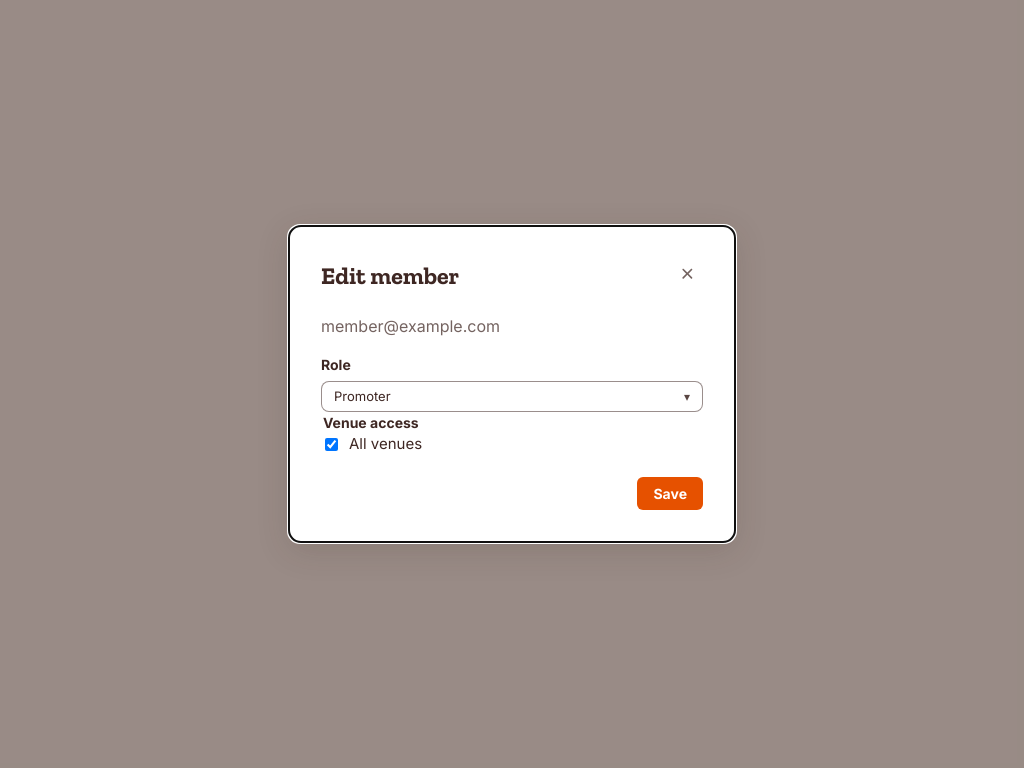
MemberEditModal › shows last-admin error
Click the button named "Role" at (362,396), box [321, 381, 703, 412]
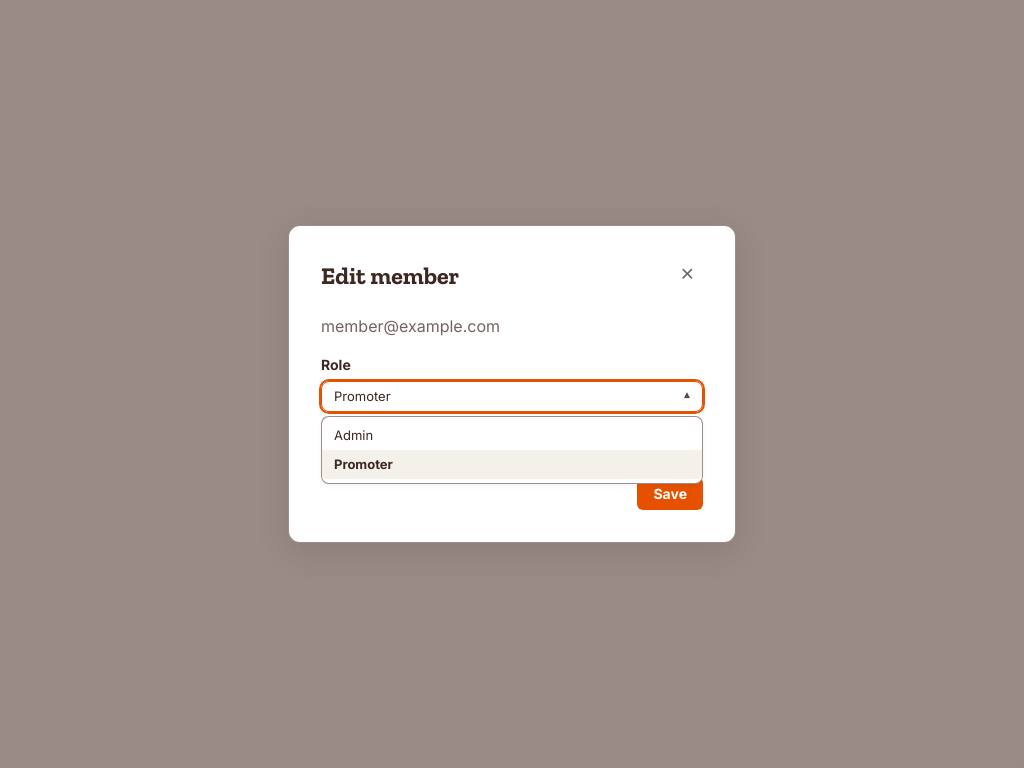
Click the option "Admin" at (354,435), box [322, 421, 702, 450]
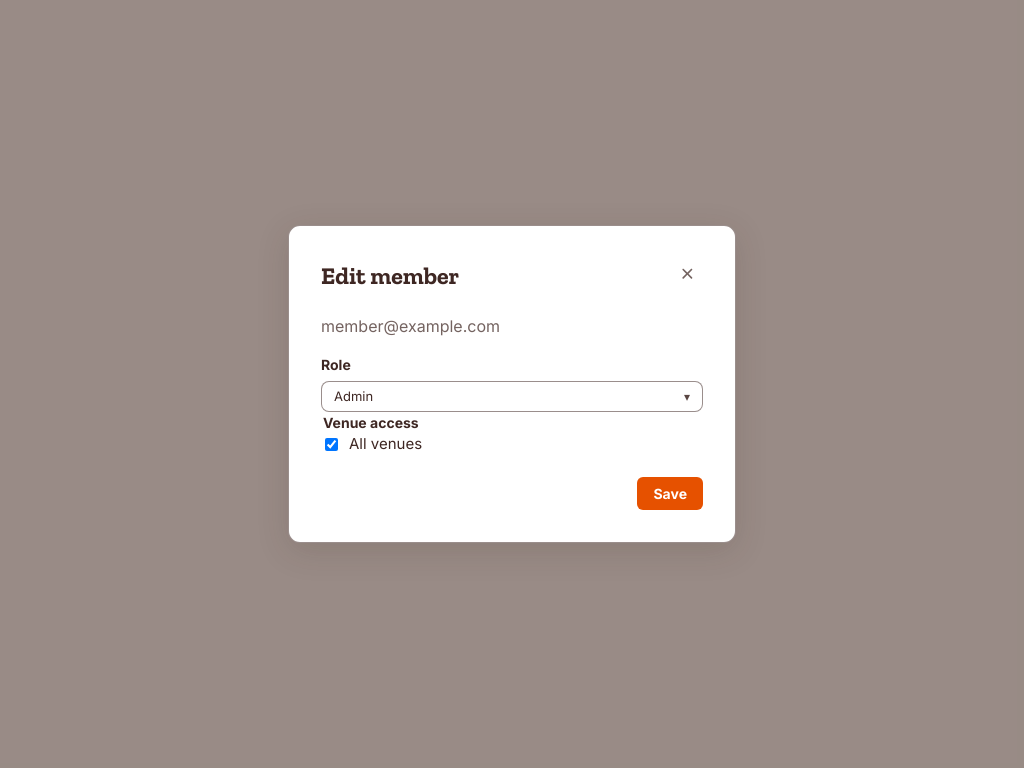
Click the button with test id "member-edit-save" at (670,494), box [638, 477, 703, 510]
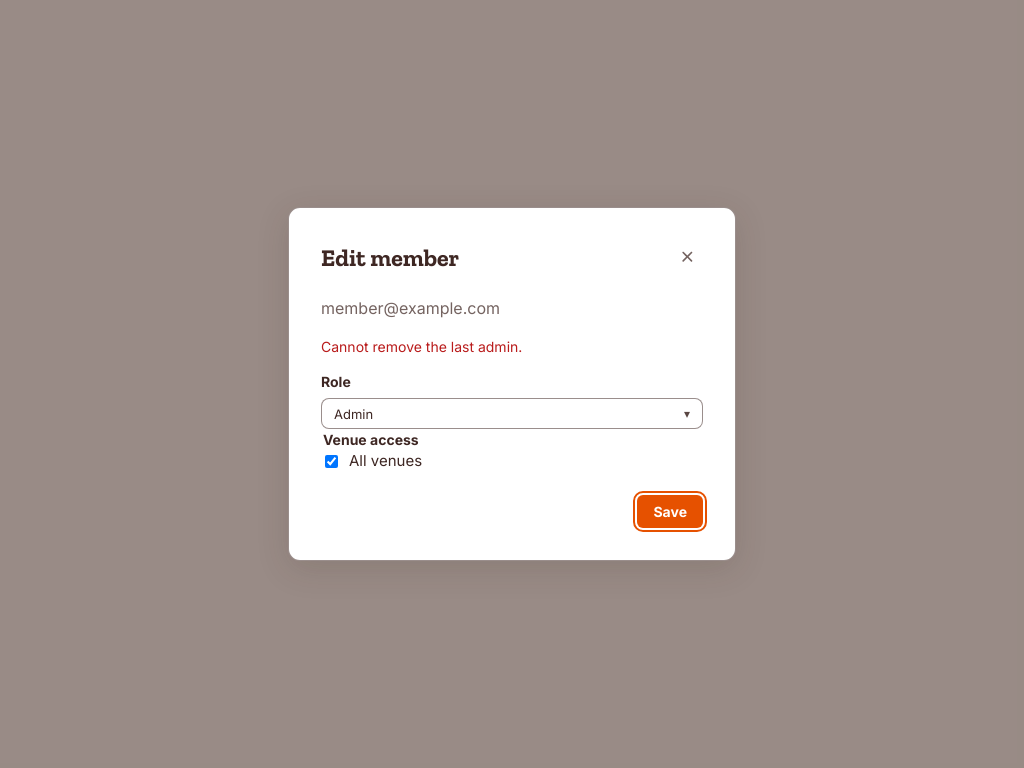
Result: the message reads "Cannot remove the last admin." at [321, 338, 522, 355]
